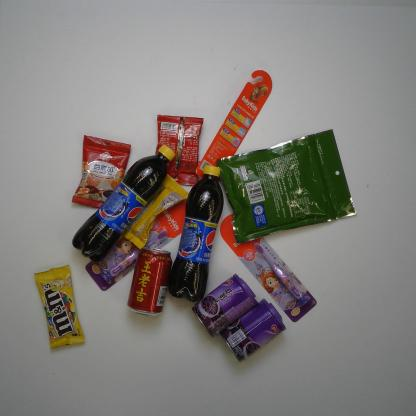Canned Food: (188, 270, 260, 340), (219, 296, 288, 364)
Chocolate: (122, 172, 191, 251), (31, 263, 88, 351)
Dried Fruit: (215, 126, 359, 245)
Drink: (70, 142, 177, 266), (165, 162, 225, 303), (124, 245, 174, 319)
Instant Drink: (68, 133, 132, 210), (152, 113, 206, 187)
Personal Hygiene: (218, 212, 318, 324), (82, 196, 190, 293), (192, 69, 274, 181)
